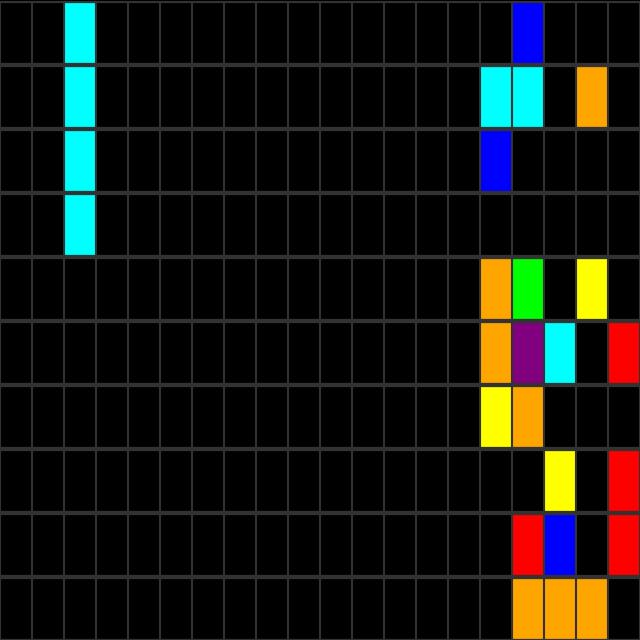Tetrimino_Z: (63, 0, 96, 256)
